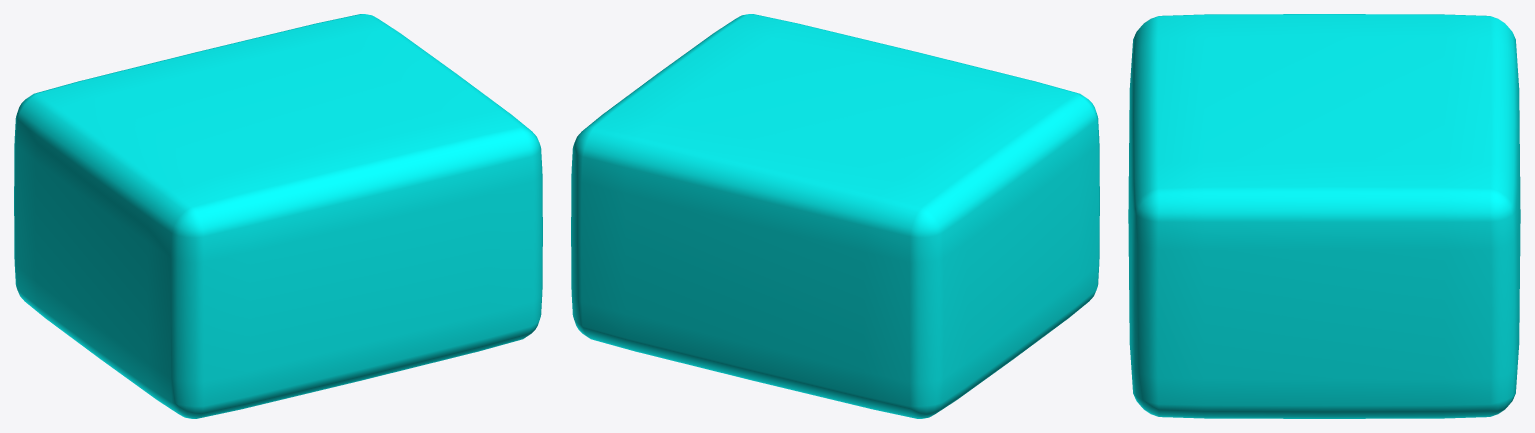
The picture shows the model from 3 angles, left to right: view 1: azimuth 30°, elevation 25°; view 2: azimuth 150°, elevation 25°; view 3: azimuth 270°, elevation 25°; orthographic projection. The views are drawn at different scales.
Parts seen in each view (by area): view 1: Box3_High; view 2: Box3_High; view 3: Box3_High.
Boxes of the visible parts, x1,y1,x2,y2 form: Box3_High: [14, 14, 542, 418]; Box3_High: [571, 14, 1099, 418]; Box3_High: [1128, 14, 1520, 418].
Size of the model in its own units: 1 by 0.5593 by 0.8406.
